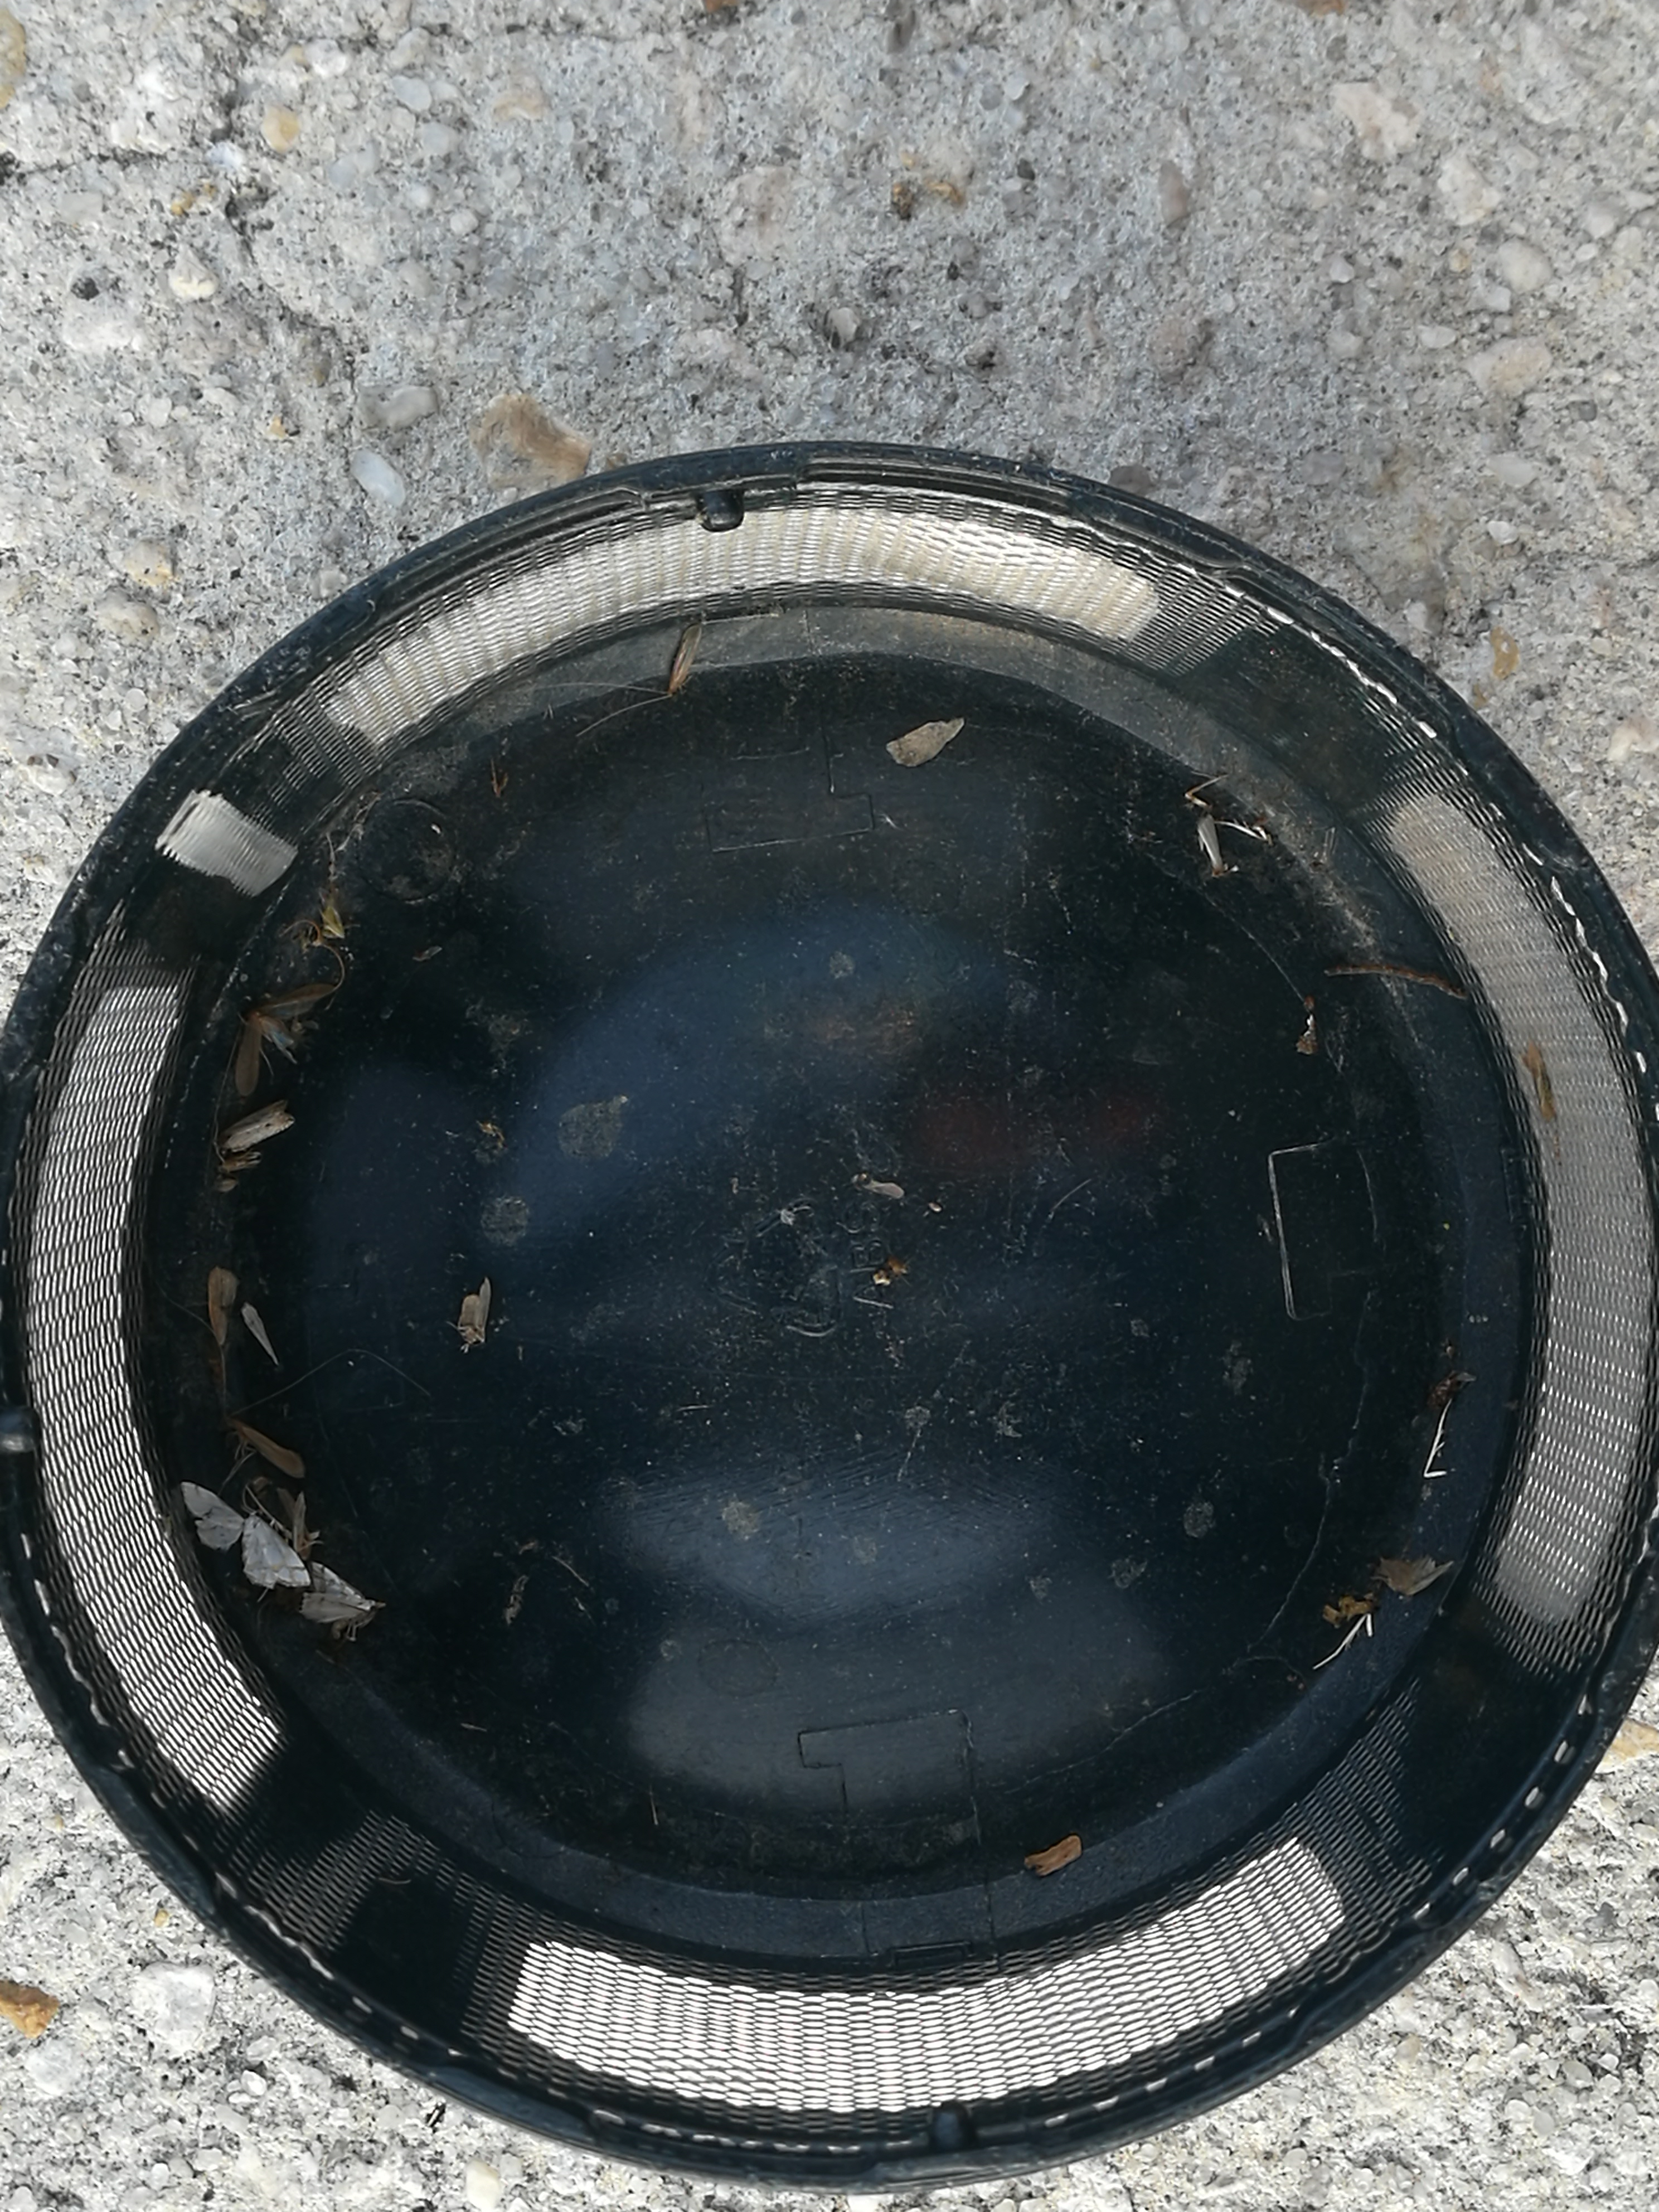mosquito: (225, 1414, 307, 1477), (218, 1099, 296, 1155), (664, 629, 699, 695), (293, 1491, 308, 1552)
moth: (239, 979, 335, 1092), (301, 1561, 378, 1641)
